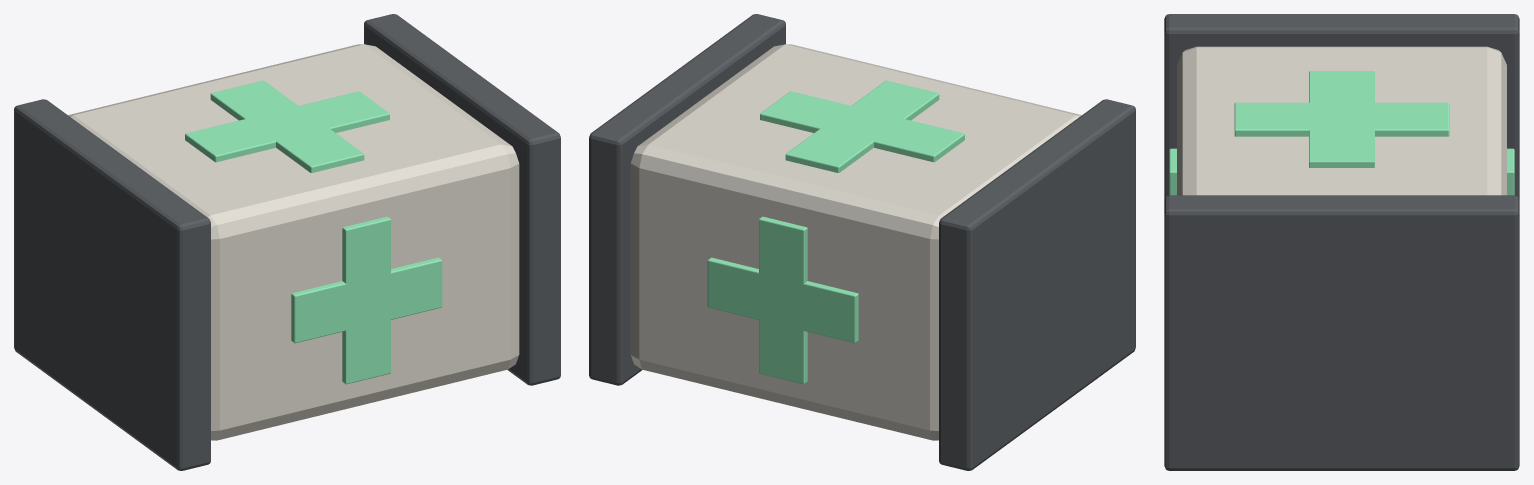
The model's file is HealthPickup.fbx.
The picture shows the model from 3 angles, left to right: view 1: azimuth 30°, elevation 25°; view 2: azimuth 150°, elevation 25°; view 3: azimuth 270°, elevation 25°; orthographic projection. The views are drawn at different scales.
Visible parts, largest first — view 1: HealthCanister, HealthCap, HealthCap.001, HealthCross.002, HealthCross.003, HealthCross.005, HealthCross.004; view 2: HealthCanister, HealthCap, HealthCap.001, HealthCross, HealthCross.001, HealthCross.004, HealthCross.005; view 3: HealthCap.001, HealthCanister, HealthCap, HealthCross.005, HealthCross.004, HealthCross.001, HealthCross.003.
Boxes of the visible parts, x1,y1,x2,y2 form: HealthCanister: (68,44,519,440); HealthCap: (14,99,210,470); HealthCap.001: (364,14,560,385); HealthCross.002: (291,257,442,343); HealthCross.003: (342,216,390,384); HealthCross.005: (210,80,364,172); HealthCross.004: (185,91,389,162); HealthCanister: (630,44,1081,440); HealthCap: (939,99,1135,470); HealthCap.001: (589,14,785,385); HealthCross: (707,257,858,343); HealthCross.001: (759,216,807,384); HealthCross.004: (760,91,964,162); HealthCross.005: (785,80,939,172); HealthCap.001: (1164,195,1519,470); HealthCanister: (1177,46,1506,195); HealthCap: (1164,14,1519,199); HealthCross.005: (1234,102,1449,136); HealthCross.004: (1309,71,1374,167); HealthCross.001: (1507,148,1514,195); HealthCross.003: (1169,148,1176,195).
Bounding box in the file's own units: 0.285 × 0.175 × 0.215.
